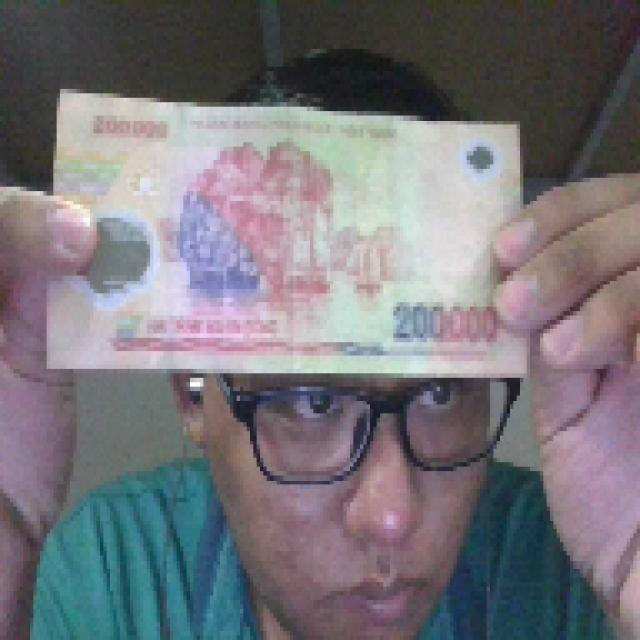200 000 VND: (40, 80, 533, 382)
